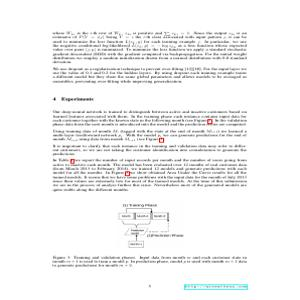diagram: (112, 198, 185, 255)
text: (50, 30, 247, 193), (47, 252, 249, 271)
